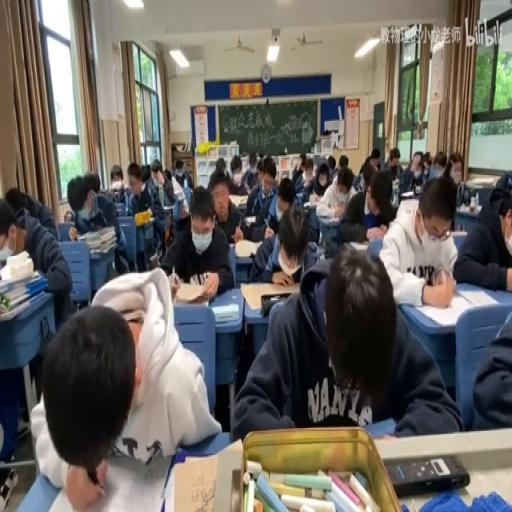calculator: (43, 442, 172, 511), (410, 289, 498, 327), (171, 453, 219, 512), (238, 280, 294, 309), (0, 288, 45, 322), (0, 266, 42, 294), (396, 195, 422, 220), (362, 416, 394, 436), (210, 302, 238, 322), (174, 294, 208, 308), (234, 238, 259, 256), (466, 175, 494, 188), (134, 209, 152, 225), (227, 194, 247, 208), (317, 215, 341, 226), (176, 198, 189, 218), (0, 246, 13, 263), (349, 240, 369, 250), (306, 196, 320, 208), (400, 189, 414, 199), (243, 214, 256, 224), (392, 176, 399, 194), (450, 229, 466, 236), (162, 203, 174, 212)
paper: (234, 243, 456, 440), (2, 188, 75, 455), (380, 176, 459, 308), (158, 182, 233, 296), (453, 172, 512, 293), (66, 170, 128, 278), (248, 193, 318, 283), (467, 301, 512, 431), (331, 168, 386, 247), (125, 160, 169, 258), (436, 151, 466, 219), (399, 146, 426, 194), (356, 145, 381, 186), (226, 155, 248, 195), (310, 158, 333, 196), (171, 155, 194, 191), (108, 164, 128, 200), (5, 185, 27, 217), (384, 147, 402, 179), (290, 153, 306, 185), (158, 175, 174, 205), (493, 171, 512, 195), (83, 171, 99, 192), (254, 156, 264, 184), (430, 162, 444, 179), (214, 156, 226, 174), (248, 154, 258, 172), (139, 165, 150, 181), (422, 150, 430, 170), (338, 155, 347, 171), (327, 155, 336, 171), (151, 170, 161, 184), (162, 168, 171, 182), (63, 209, 73, 221)
person: (384, 454, 470, 496)
